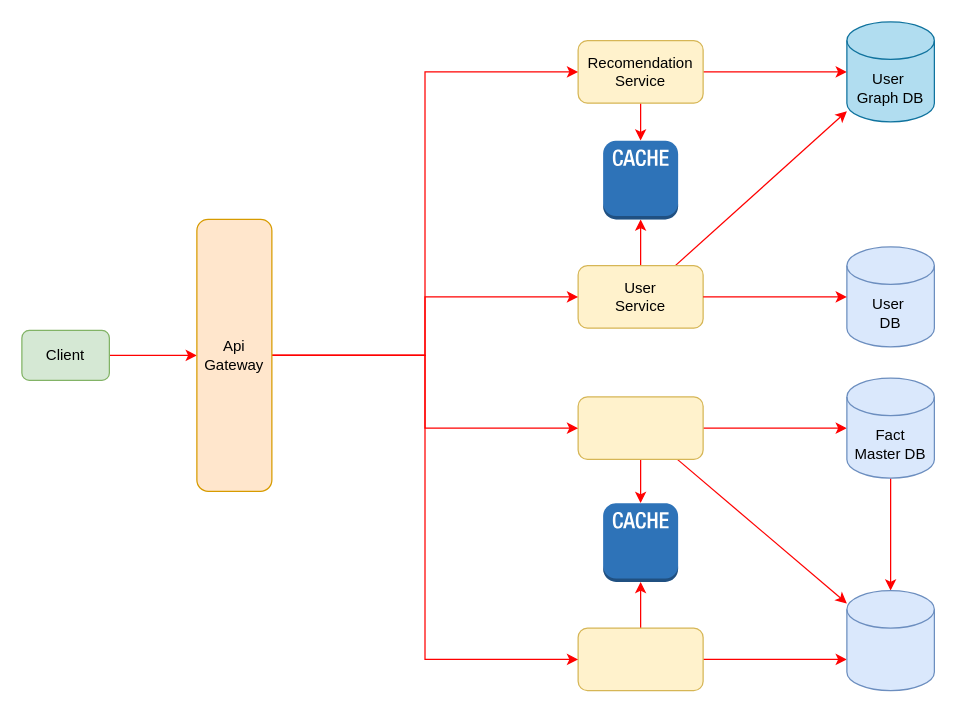
The diagram is 956 pixels wide and 713 high, and some of its shapes have lost their labels. Here are the shapes that lost their labels. From the top down, the centre of each, then its label:
[640,427]: Fact Service
[640,659]: Game Service
[890,640]: Fact Slave DB
